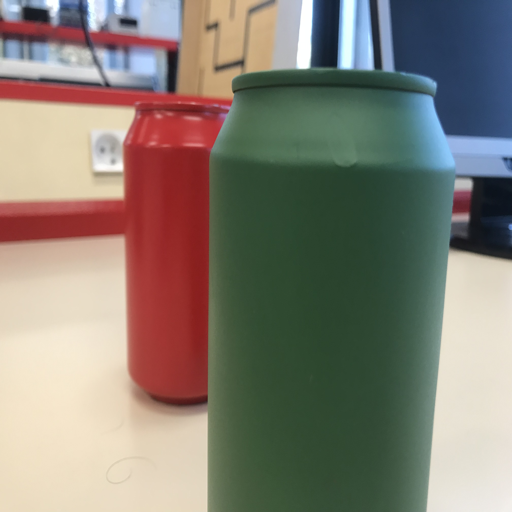Green_Can: (203, 63, 458, 511)
Red_Can: (119, 95, 231, 407)
